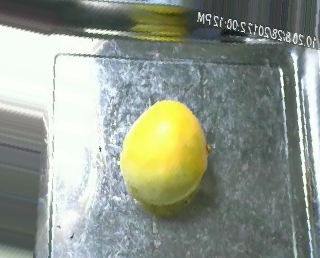Mango: (122, 99, 207, 202)
